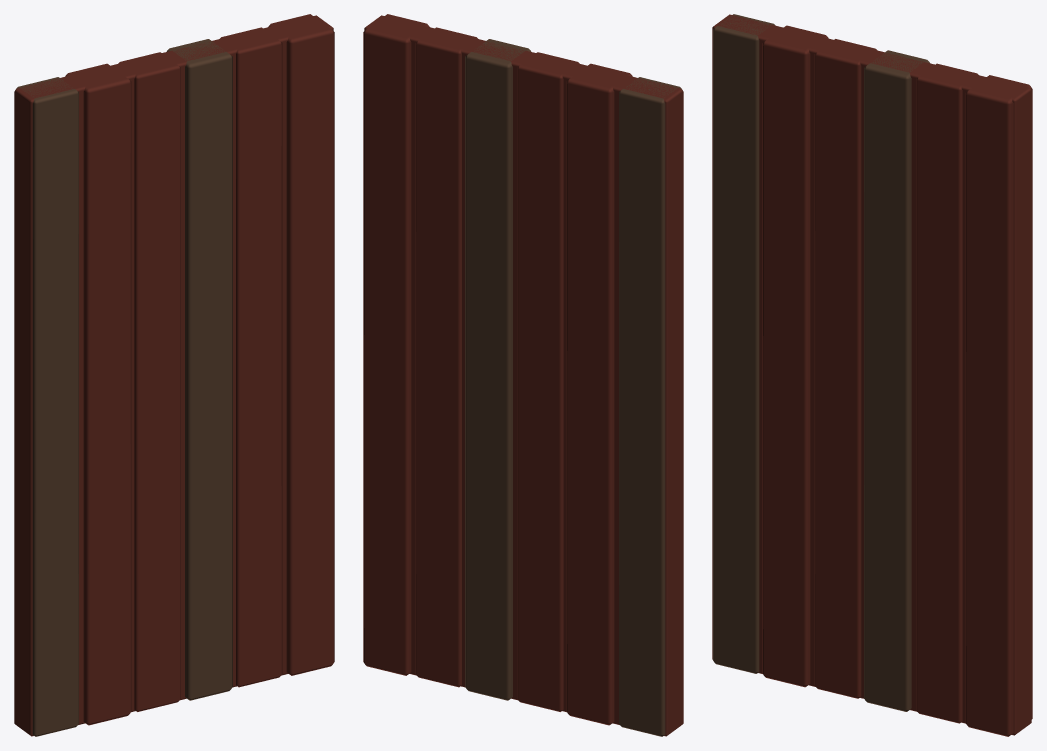
Rendered from railcar-wall-boarded.d135361d.glb.
3 views of the same model, side by side, from view 1: azimuth 30°, elevation 25°; view 2: azimuth 150°, elevation 25°; view 3: azimuth 330°, elevation 25° (orthographic).
Parts seen in each view (by area): view 1: body; view 2: body; view 3: body.
Part boxes in pixels (box(x1,y1,x2,y2)): body: box(14, 14, 334, 736); body: box(363, 14, 683, 736); body: box(712, 14, 1032, 736).
Size of the model in its own units: 1 by 2 by 0.14.
